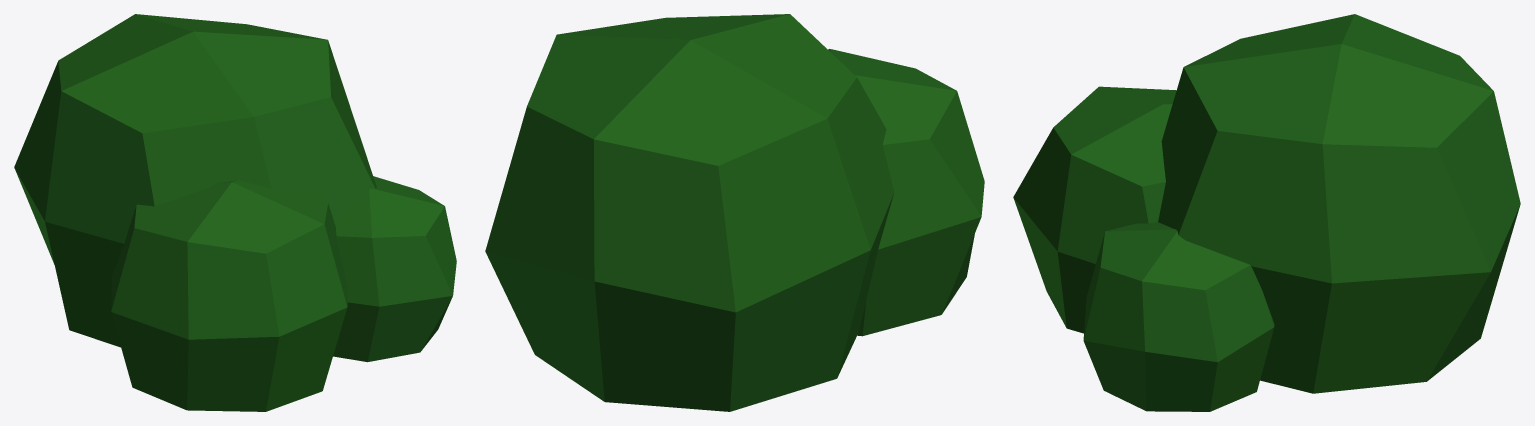
File: Bush.fbx
The picture shows the model from 3 angles, left to right: view 1: azimuth 30°, elevation 25°; view 2: azimuth 150°, elevation 25°; view 3: azimuth 270°, elevation 25°; orthographic projection. The views are drawn at different scales.
Parts seen in each view (by area): view 1: BUSH_Thicc; view 2: BUSH_Thicc; view 3: BUSH_Thicc.
Part boxes in pixels (x1,y1,x2,y2): BUSH_Thicc: (14,14,456,411); BUSH_Thicc: (485,14,984,411); BUSH_Thicc: (1013,14,1520,411).
Bounding box in the file's own units: 5 × 4.1 × 5.9.
